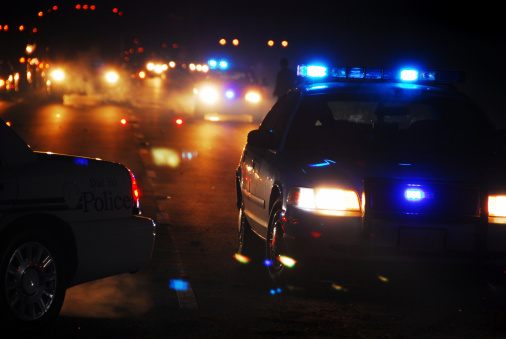car: (225, 56, 504, 296)
